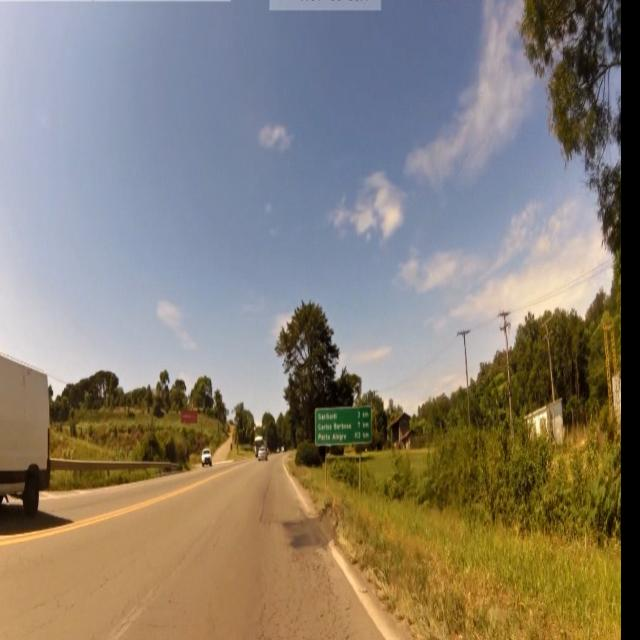I-4: (316, 409, 372, 447)
